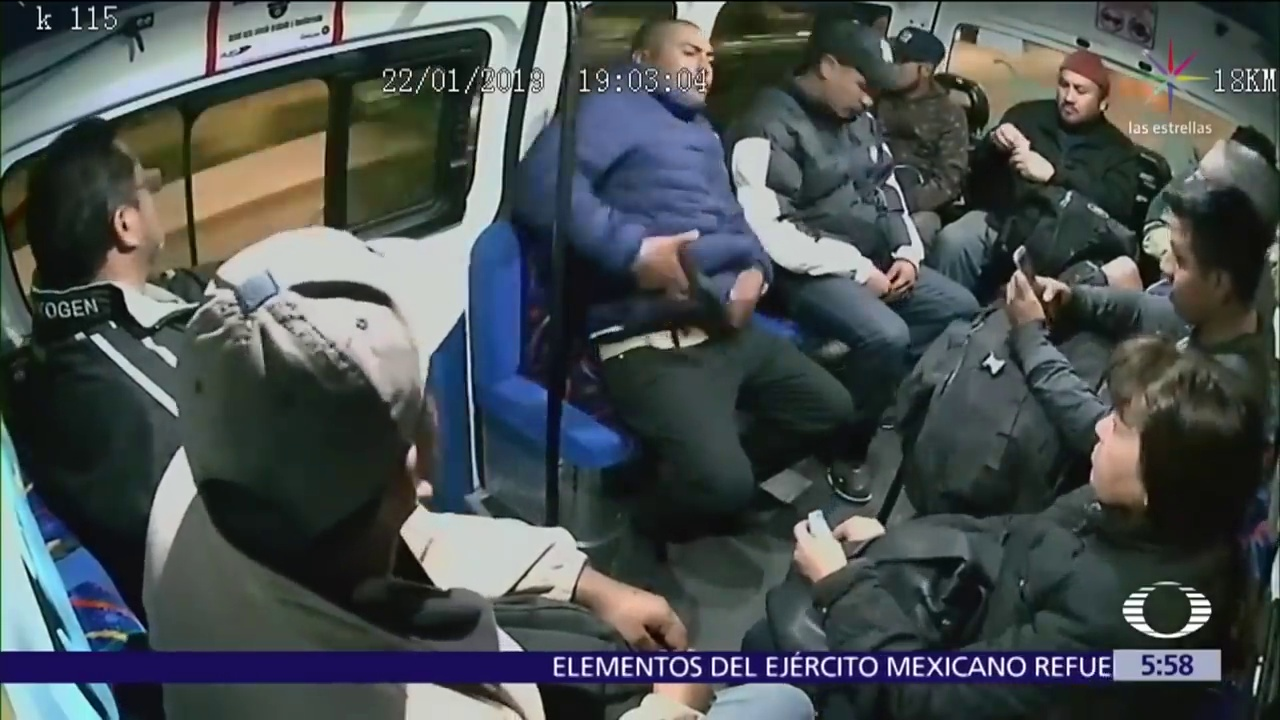pistol: (651, 235, 723, 315)
